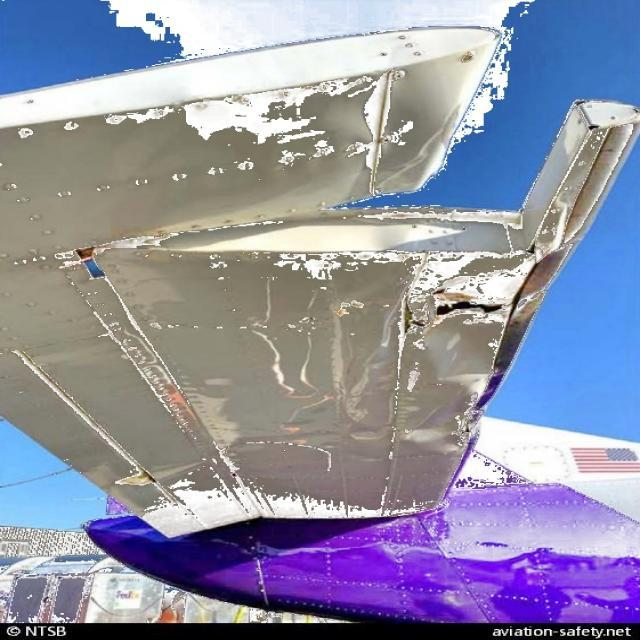dent: (383, 401, 461, 467)
